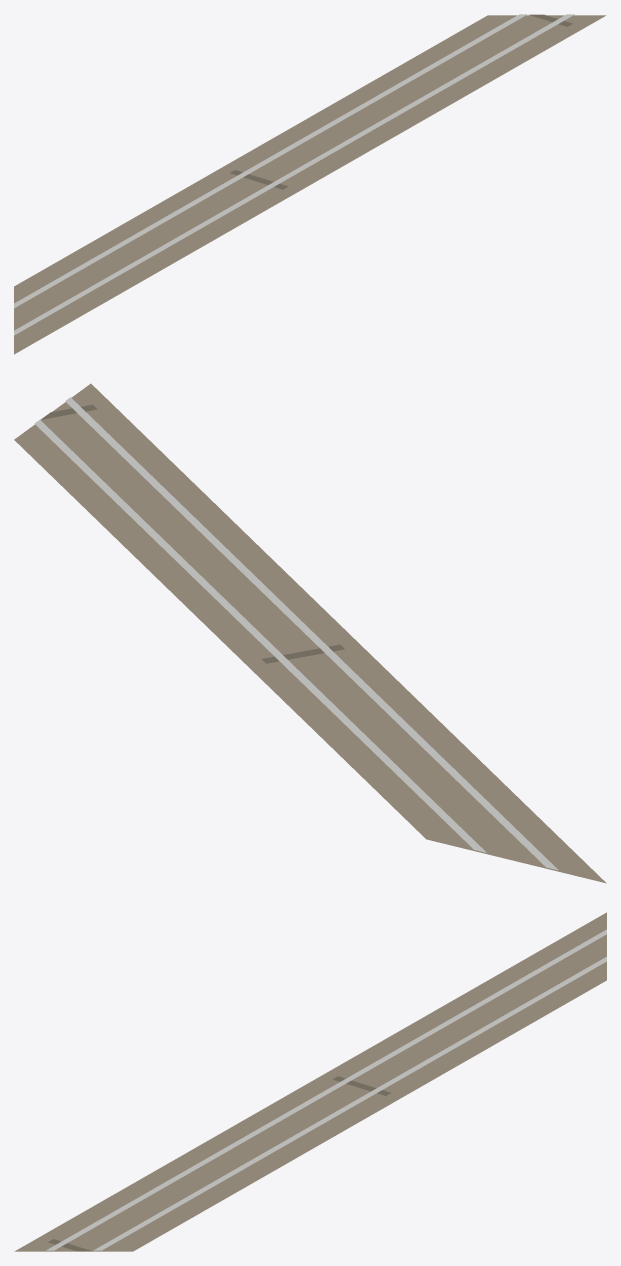
The picture shows the model from 3 angles, top to bottom: view 1: azimuth 90°, elevation 25°; view 2: azimuth 150°, elevation 25°; view 3: azimuth 270°, elevation 25°; orthographic projection. The views are drawn at different scales.
Visible parts, largest first — view 1: rail; view 2: rail; view 3: rail.
Boxes of the visible parts, x1,y1,x2,y2 form: rail: (14,14,606,354); rail: (14,383,606,883); rail: (14,912,606,1251).
Size of the model in its own units: 30.19 by 0.04 by 22.29.
